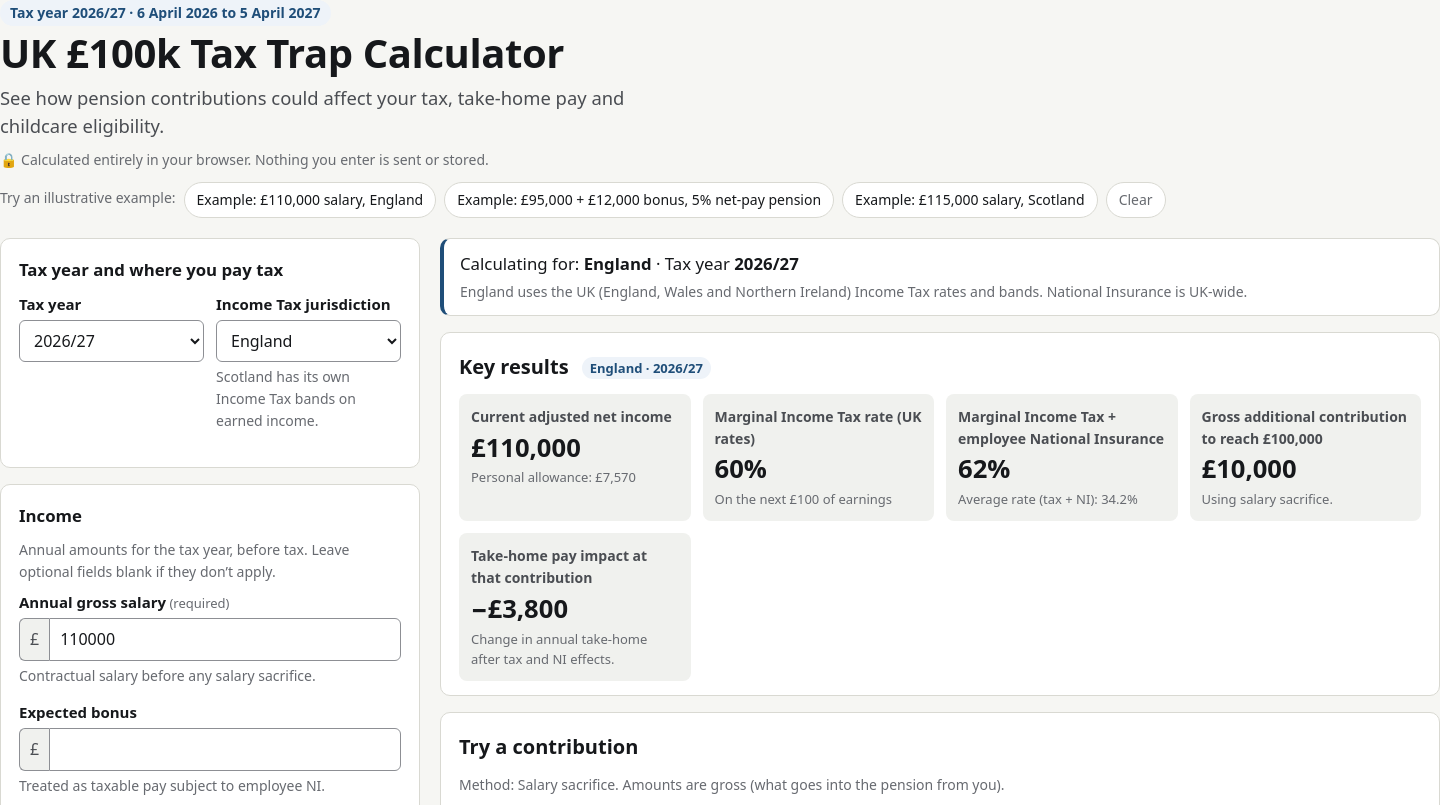
Test case: calculator UI › invalid input hides results, explains the problem and keeps entries
The image size is (1440, 805).
Type "-500" into the field labelled "Expected bonus" at [225, 749], box x1=49 y1=728 x2=401 y2=771
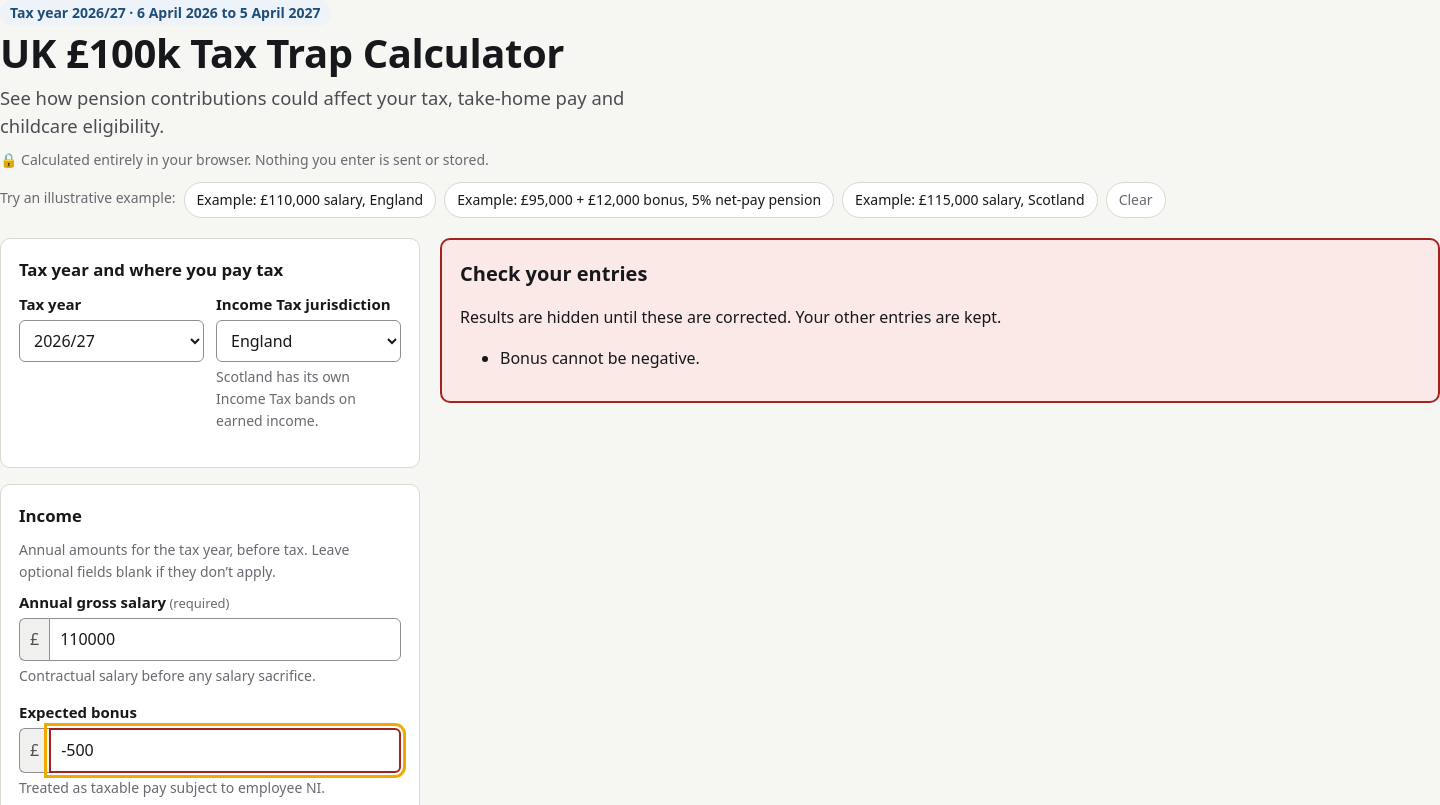
Expected: the field labelled "Annual gross salary (required)" holds "110000", x1=49 y1=618 x2=401 y2=661
Now the heading "Check your entries" is shown, box x1=460 y1=260 x2=647 y2=287
Now the text with test id "current-ani" is gone
